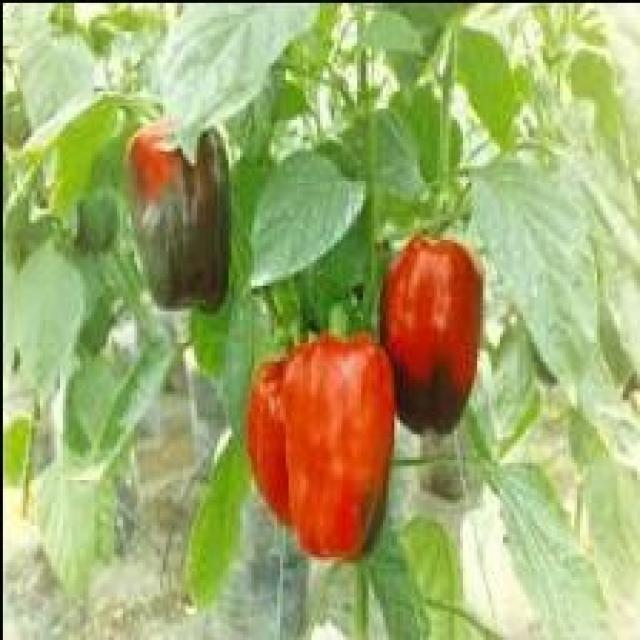Pepper: (243, 334, 397, 563), (120, 117, 231, 317), (380, 234, 486, 437)
